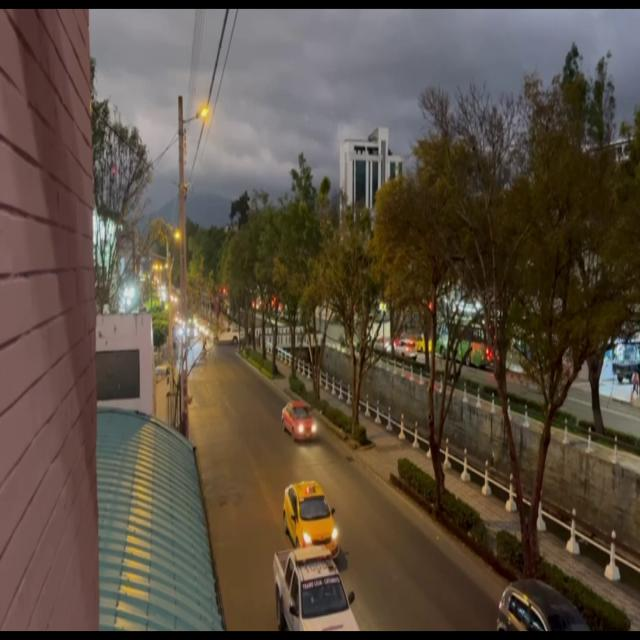CMT: (274, 547, 354, 630)
SED: (285, 484, 336, 557), (285, 404, 317, 442)
